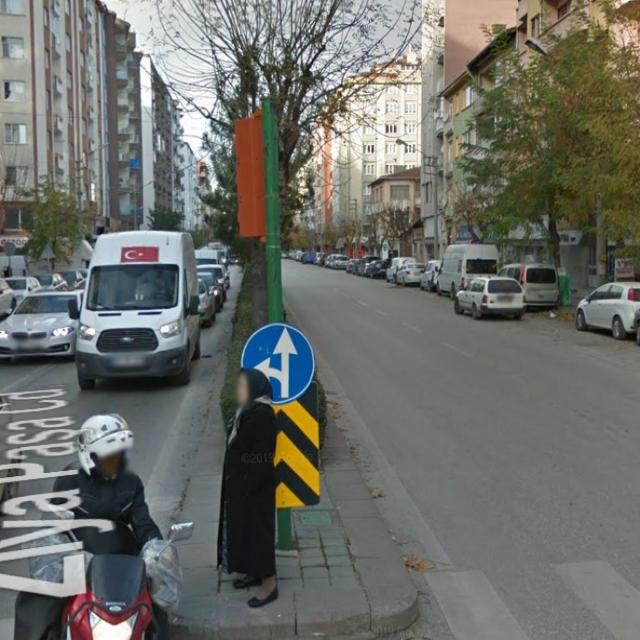ilerisol: (240, 323, 315, 404)
